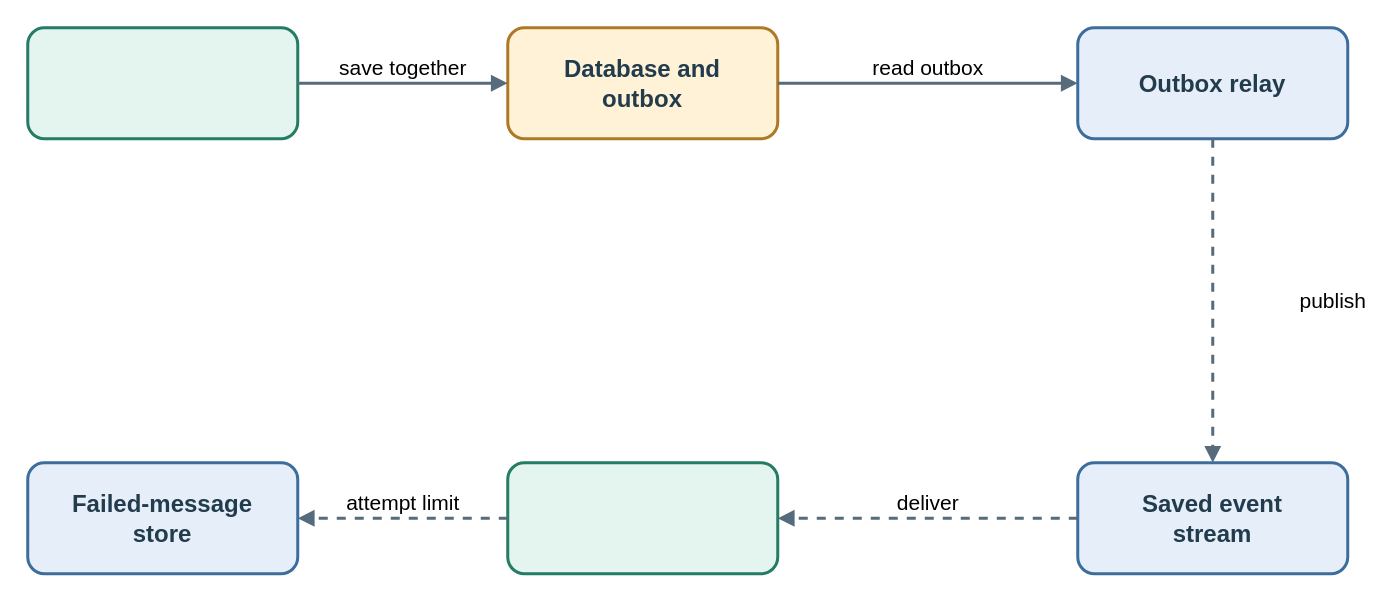
The diagram is 1391 pixels wide and 600 high, and some of its shapes have lost their labels. Each missing label, with the centre of its shape:
"Order application" goes at pixel 162 83.
"Settlement worker" goes at pixel 642 517.
